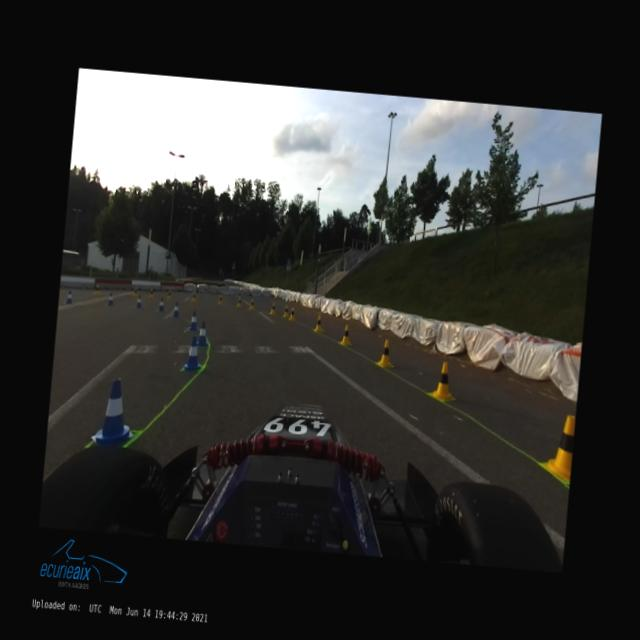blue_cone: (90, 376, 138, 448), (183, 336, 203, 370), (196, 321, 210, 346), (188, 310, 199, 330), (65, 288, 73, 304), (106, 292, 115, 306), (157, 297, 165, 311), (172, 302, 180, 316), (136, 294, 142, 308)
yellow_cone: (541, 412, 575, 482), (429, 360, 456, 401), (377, 338, 395, 368), (340, 324, 352, 345), (313, 314, 324, 332), (288, 306, 296, 320), (282, 304, 288, 316), (270, 303, 276, 314), (248, 299, 254, 309), (217, 294, 223, 304), (148, 287, 154, 297), (132, 286, 138, 296), (94, 284, 100, 294), (166, 288, 171, 298), (236, 298, 242, 306), (191, 292, 196, 300)
